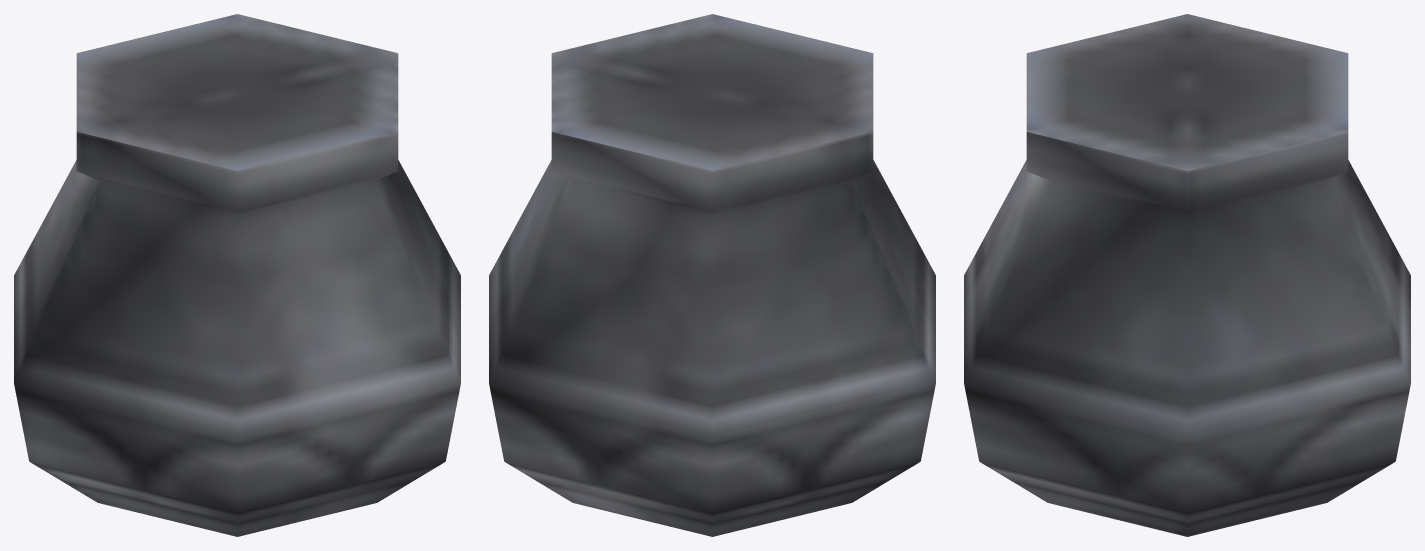
Rendered from all_mine_prop_13.FBX.
3 renders of one model, left to right at view 1: azimuth 30°, elevation 25°; view 2: azimuth 150°, elevation 25°; view 3: azimuth 270°, elevation 25°, orthographic.
Parts seen in each view (by area): view 1: all_mine_prop_13; view 2: all_mine_prop_13; view 3: all_mine_prop_13.
Part boxes in pixels (<box>): all_mine_prop_13: <box>14,14,460,536</box>; all_mine_prop_13: <box>489,14,935,536</box>; all_mine_prop_13: <box>964,14,1410,536</box>.
Size of the model in its own units: 18.89 by 15.2 by 16.36.
